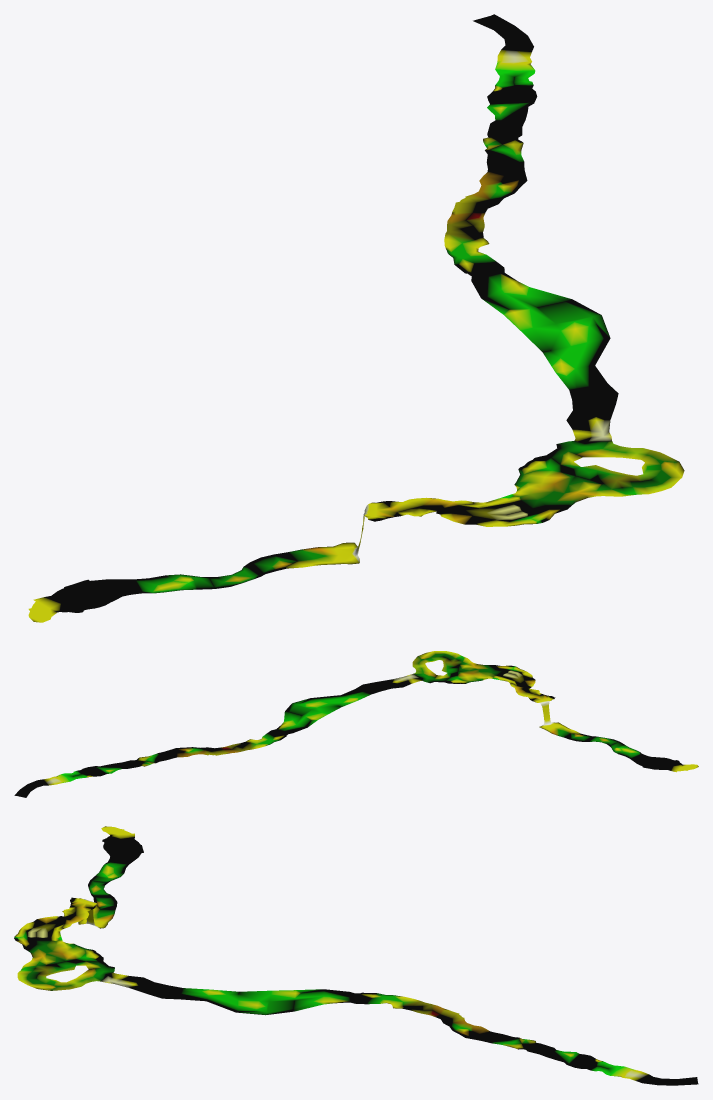
3 views of the same model, one above another, from view 1: azimuth 30°, elevation 25°; view 2: azimuth 150°, elevation 25°; view 3: azimuth 270°, elevation 25° (orthographic). The views are drawn at different scales.
Visible parts, largest first — view 1: G:\FFXIV-MapTools\exports\w1f2\bg\ffxiv\wil_w1\fld\w1f2\bgpa; view 2: G:\FFXIV-MapTools\exports\w1f2\bg\ffxiv\wil_w1\fld\w1f2\bgpa; view 3: G:\FFXIV-MapTools\exports\w1f2\bg\ffxiv\wil_w1\fld\w1f2\bgpa.
Boxes of the visible parts, x1,y1,x2,y2 form: G:\FFXIV-MapTools\exports\w1f2\bg\ffxiv\wil_w1\fld\w1f2\bgpa: (28,14,684,622); G:\FFXIV-MapTools\exports\w1f2\bg\ffxiv\wil_w1\fld\w1f2\bgpa: (14,651,698,797); G:\FFXIV-MapTools\exports\w1f2\bg\ffxiv\wil_w1\fld\w1f2\bgpa: (14,826,698,1085).
Bounding box in the file's own units: 560 × 31.25 × 553.
